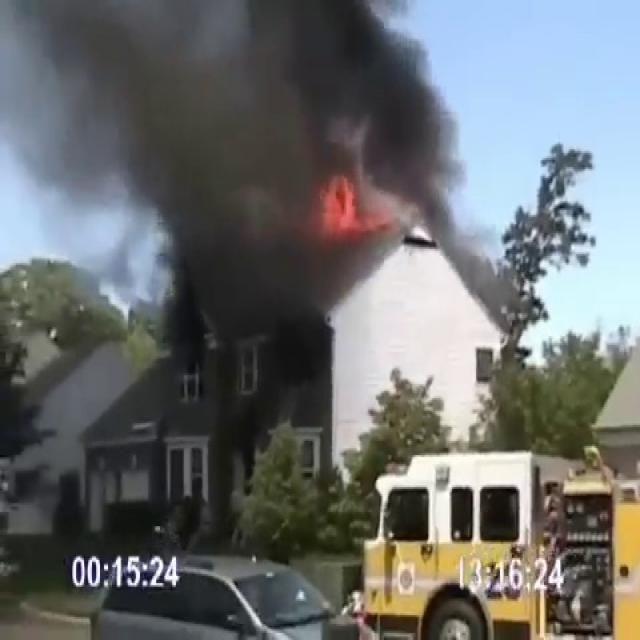Fire: (314, 159, 370, 245)
Smoke: (0, 0, 470, 373)
